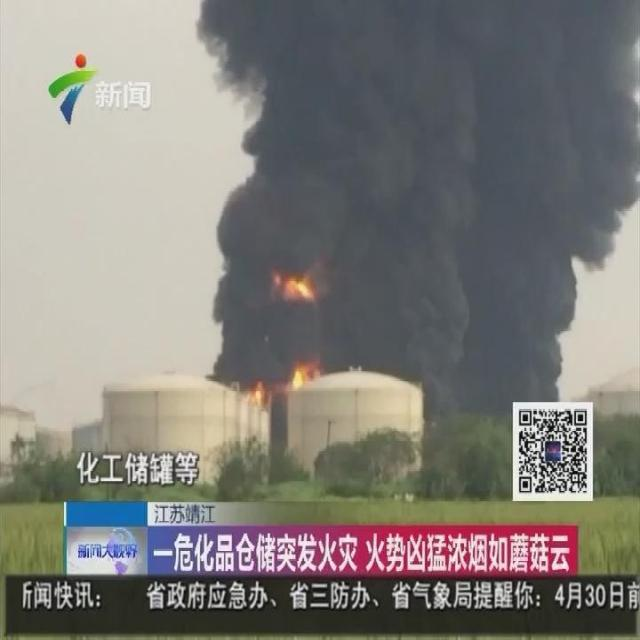Fire: (290, 357, 322, 390), (282, 272, 314, 304)
Smoke: (193, 1, 640, 420)
